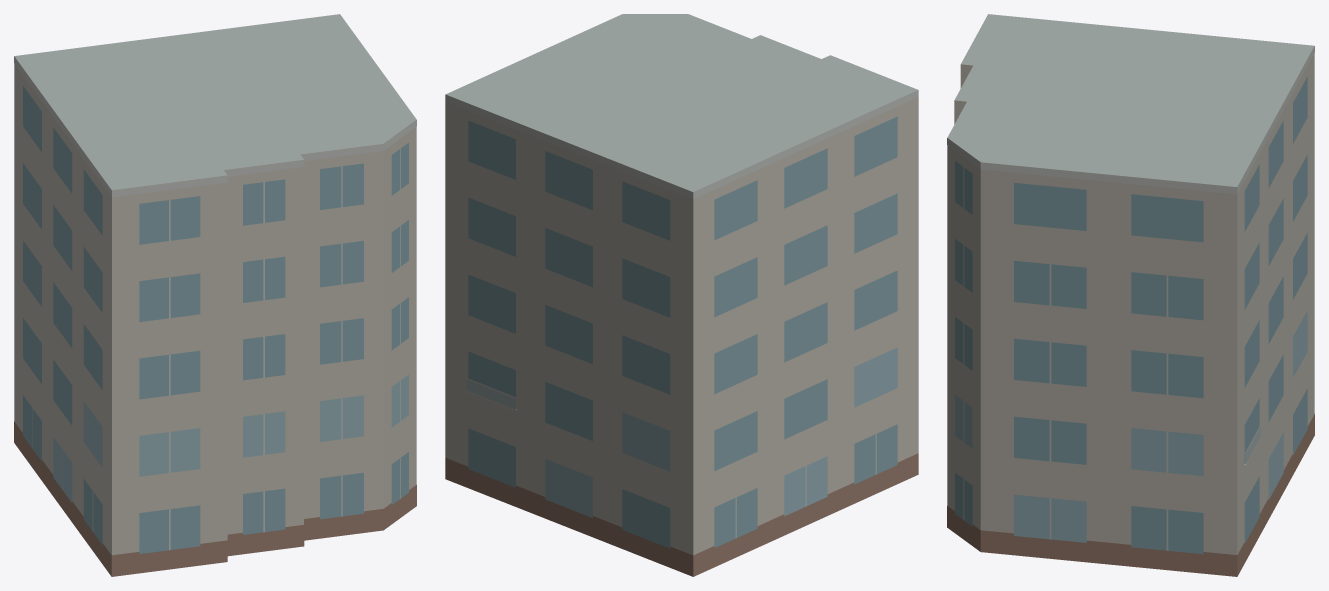
File: survey-upis-33045109.glb
3 renders of one model, left to right at view 1: azimuth 30°, elevation 25°; view 2: azimuth 150°, elevation 25°; view 3: azimuth 270°, elevation 25°, orthographic.
Parts seen in each view (by area): view 1: survey-upis-33045109.tmp; view 2: survey-upis-33045109.tmp; view 3: survey-upis-33045109.tmp.
Boxes of the visible parts, x1,y1,x2,y2 form: survey-upis-33045109.tmp: [14, 14, 416, 576]; survey-upis-33045109.tmp: [445, 14, 918, 576]; survey-upis-33045109.tmp: [947, 14, 1314, 576].
Bounding box in the file's own units: 12.58 × 13.2 × 11.29.
